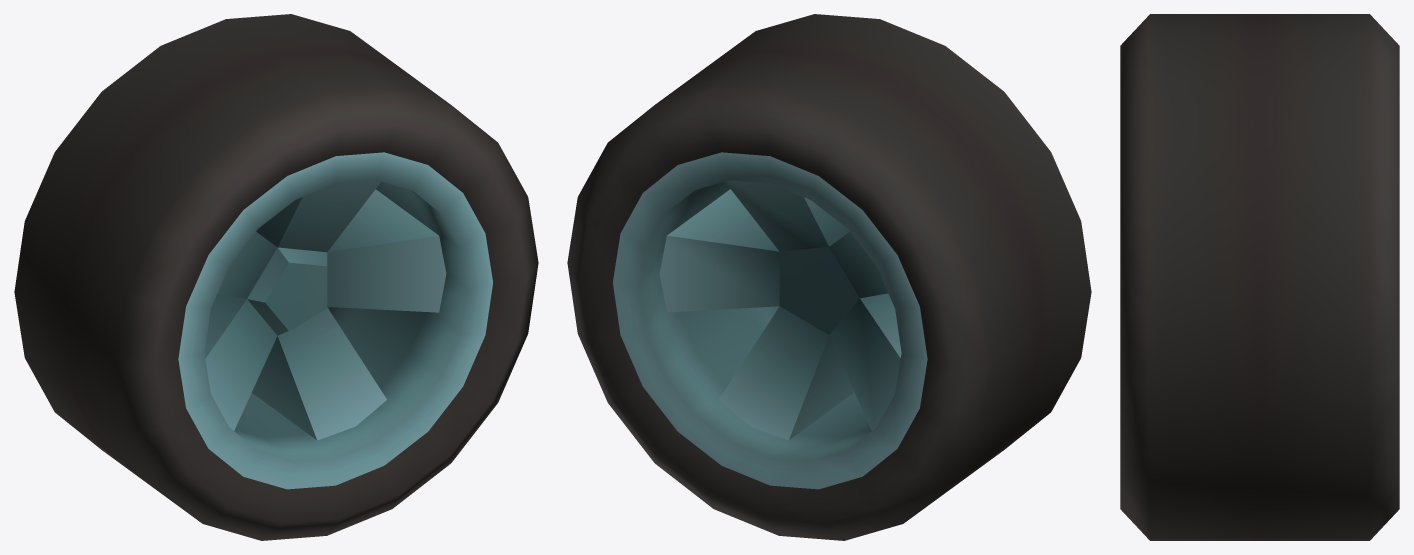
The model's file is wheel.glb.
The picture shows the model from 3 angles, left to right: view 1: azimuth 30°, elevation 25°; view 2: azimuth 150°, elevation 25°; view 3: azimuth 270°, elevation 25°; orthographic projection. The views are drawn at different scales.
Visible parts, largest first — view 1: wheel3; view 2: wheel3; view 3: wheel3.
Boxes of the visible parts, x1,y1,x2,y2 form: wheel3: (14, 14, 538, 540); wheel3: (567, 14, 1091, 540); wheel3: (1120, 14, 1399, 540).
Bounding box in the file's own units: 0.62 × 0.62 × 0.3258.
1 material, 1 textured.
